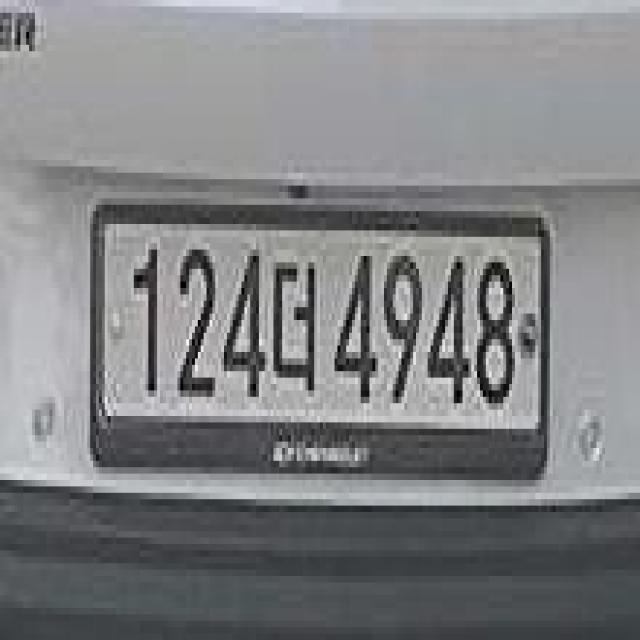illegal_plate: (86, 192, 556, 497)
